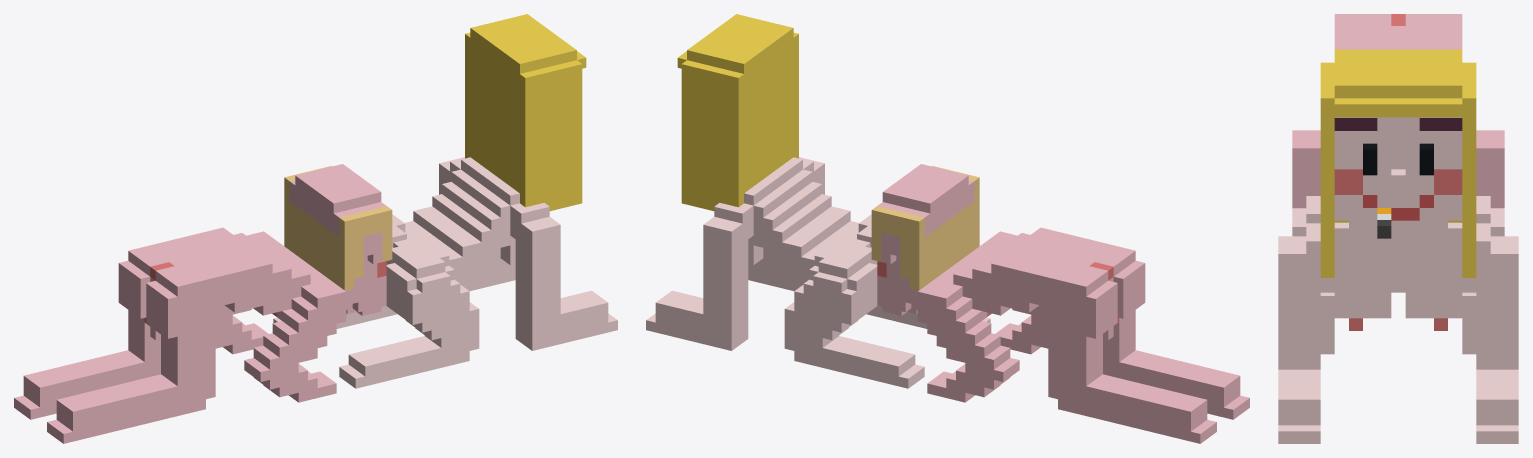
File: kama60.glb
The picture shows the model from 3 angles, left to right: view 1: azimuth 30°, elevation 25°; view 2: azimuth 150°, elevation 25°; view 3: azimuth 270°, elevation 25°; orthographic projection. The views are drawn at different scales.
Visible parts, largest first — view 1: Node; view 2: Node; view 3: Node.
Boxes of the visible parts, x1=… form: Node: x1=14, y1=14, x2=617, y2=443; Node: x1=646, y1=14, x2=1249, y2=443; Node: x1=1278, y1=14, x2=1518, y2=443.
Size of the model in its own units: 5.6 by 2.7 by 1.7.
1 material, 1 textured.
